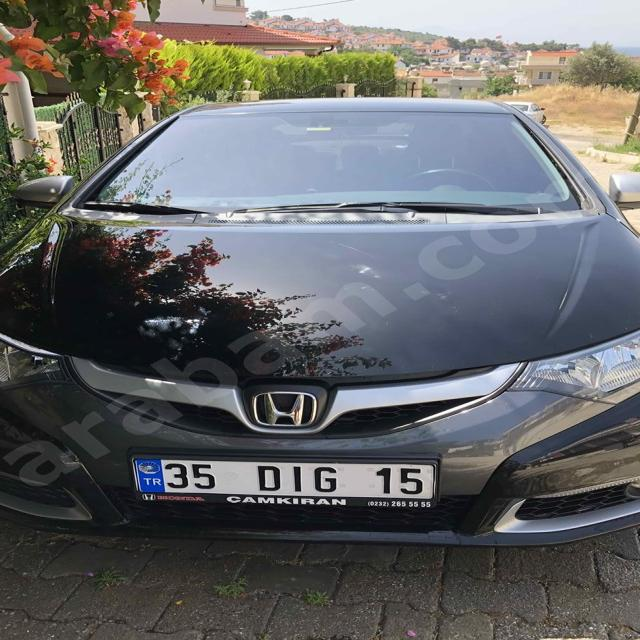license_plate: (133, 458, 434, 499)
